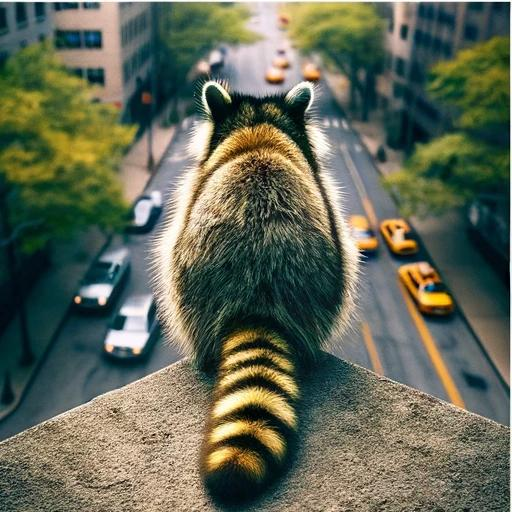raccoon: (143, 70, 374, 512)
